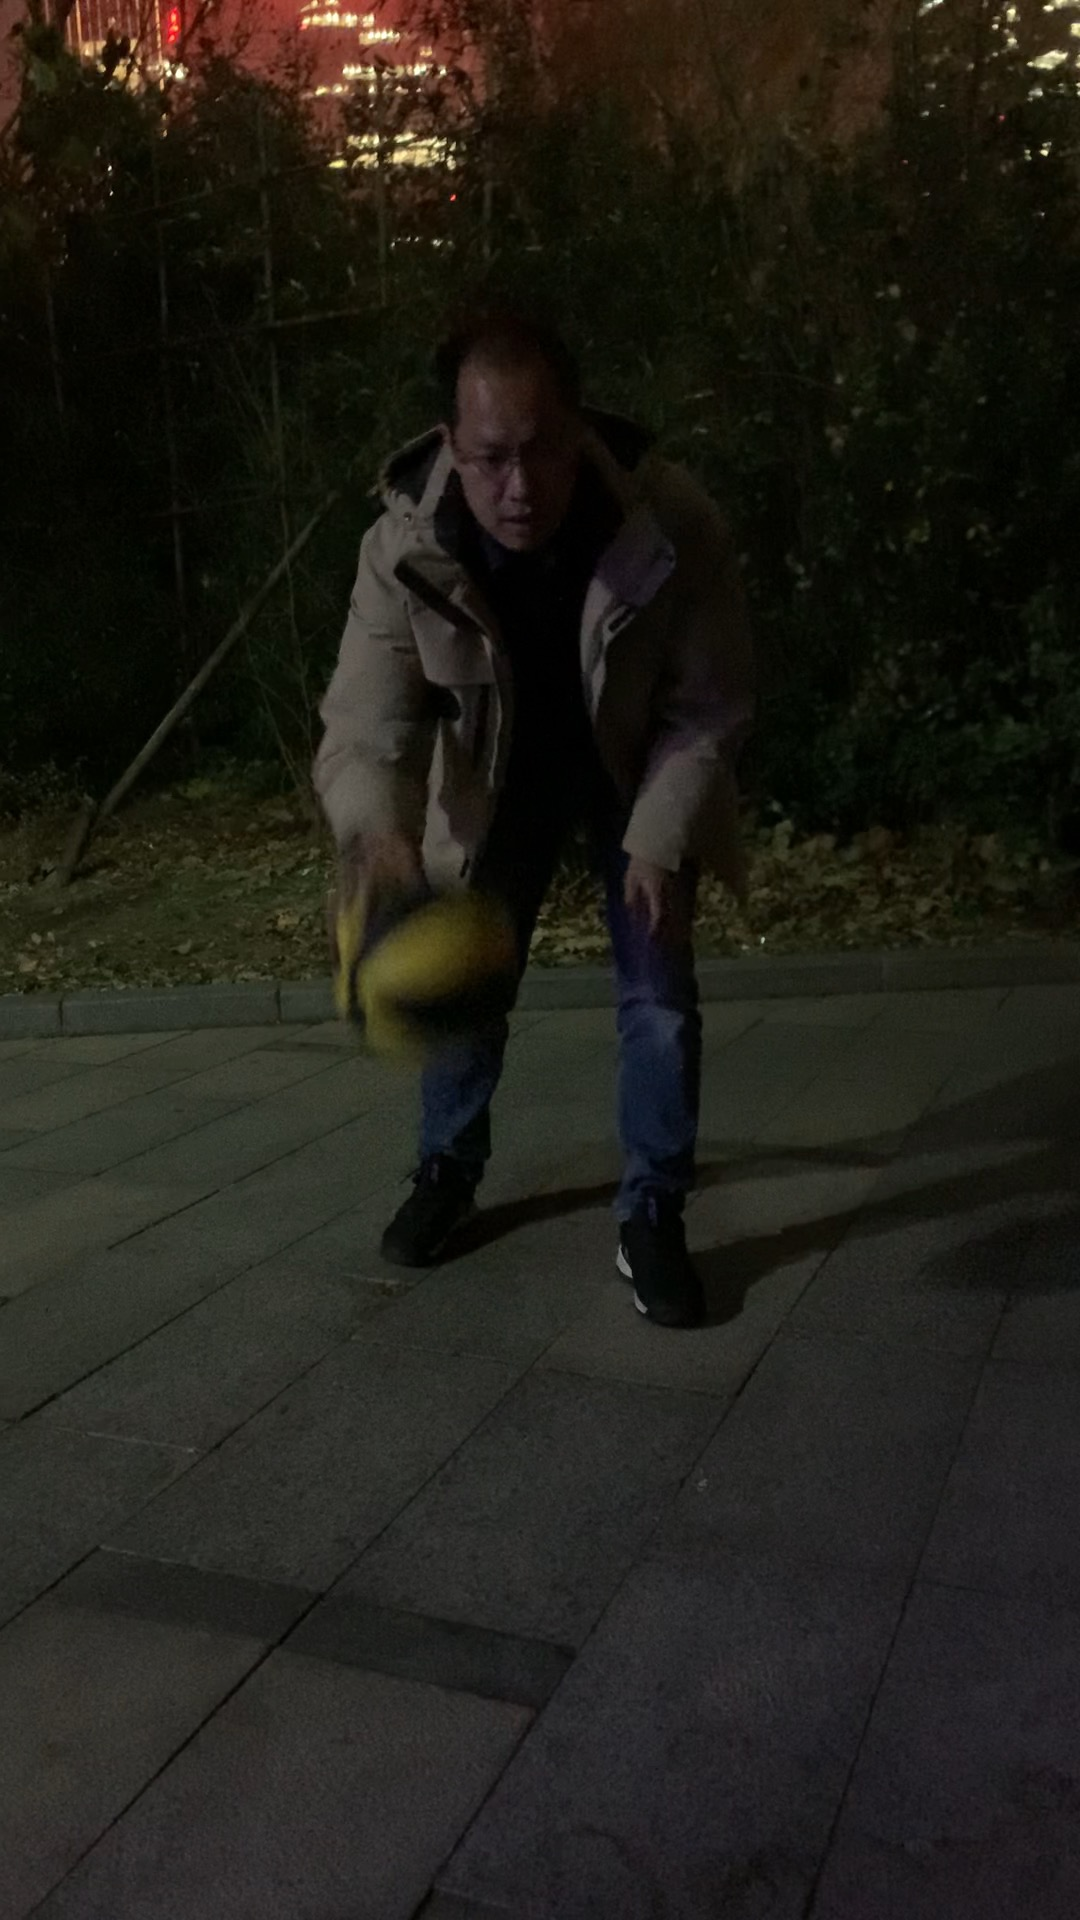ball: (326, 876, 516, 1058)
